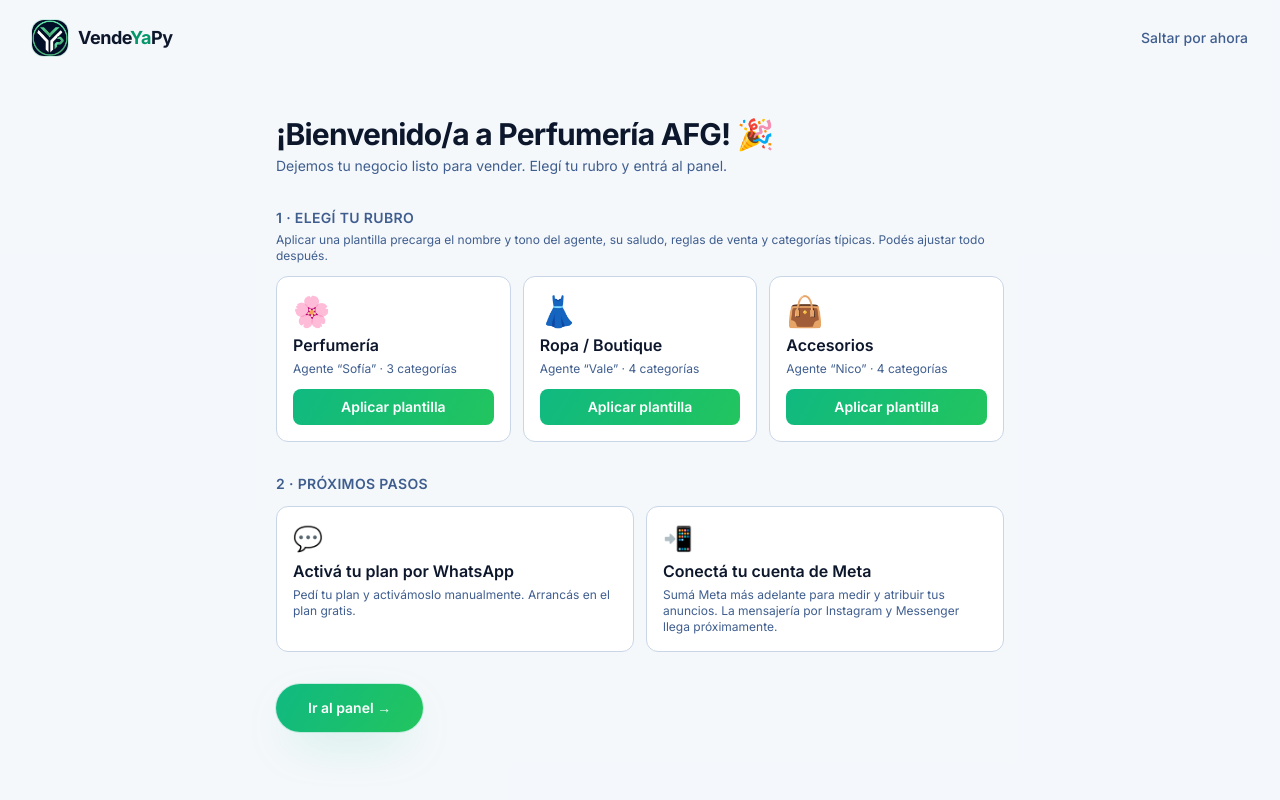
Test: H-39 · aplicar la plantilla no falla en silencio › si falla, el dueño nuevo ve el motivo
This screenshot has width=1280, height=800.
Click the button "Aplicar plantilla" below "Sofía".
click(393, 407)  # box [293,389,494,425]
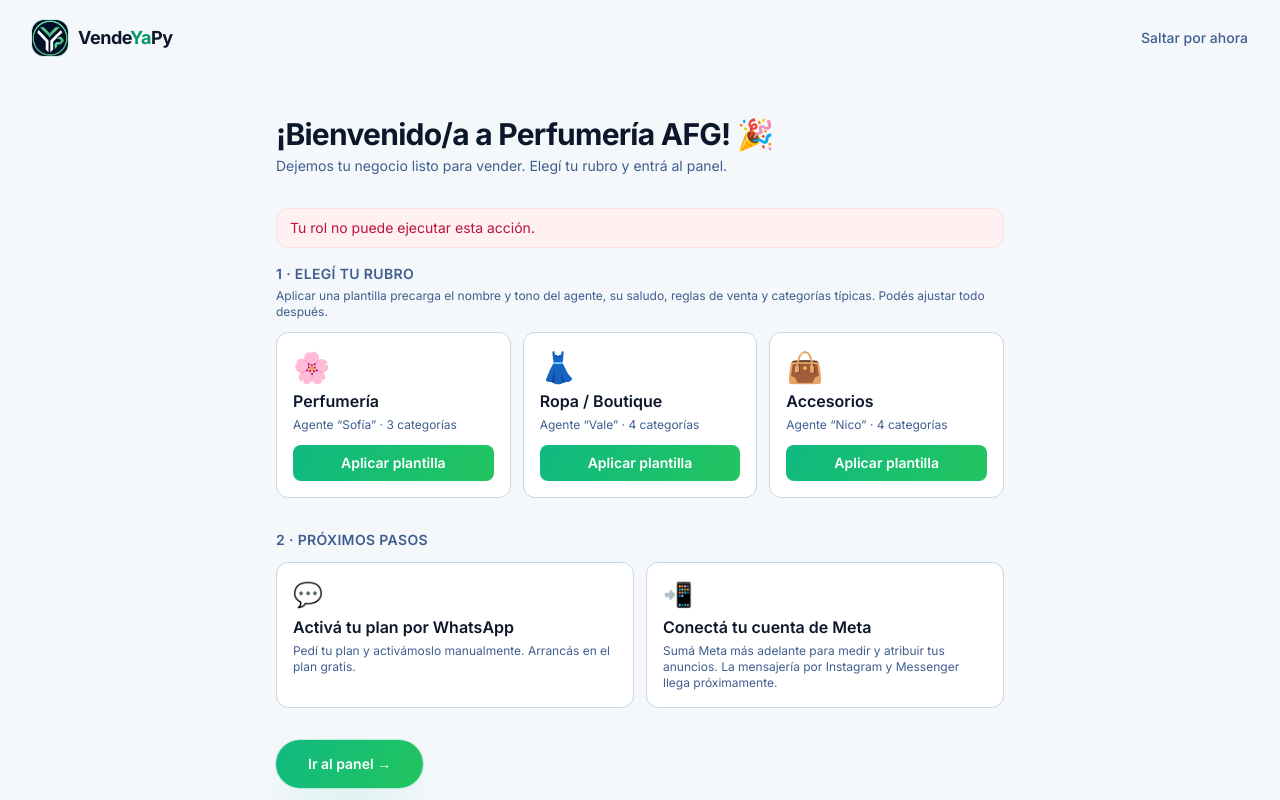
Expected: the message shows "Tu rol no puede ejecutar", [290,219,535,236]
